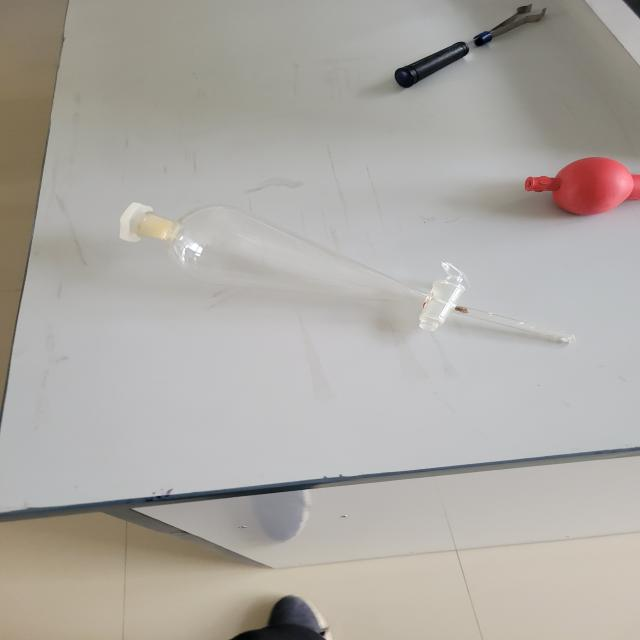Separating_Funnel: (89, 172, 585, 382)
